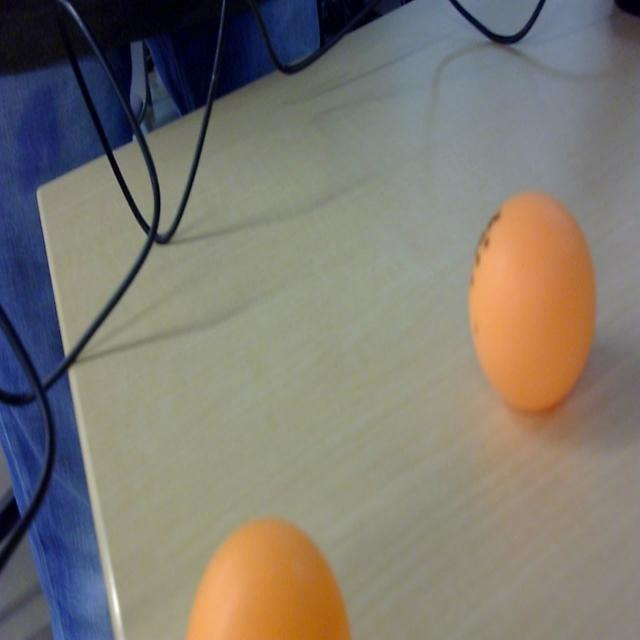ball: (468, 191, 597, 415), (183, 518, 354, 640)
